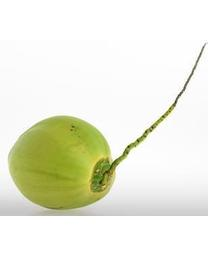coconut: (7, 115, 115, 210)
